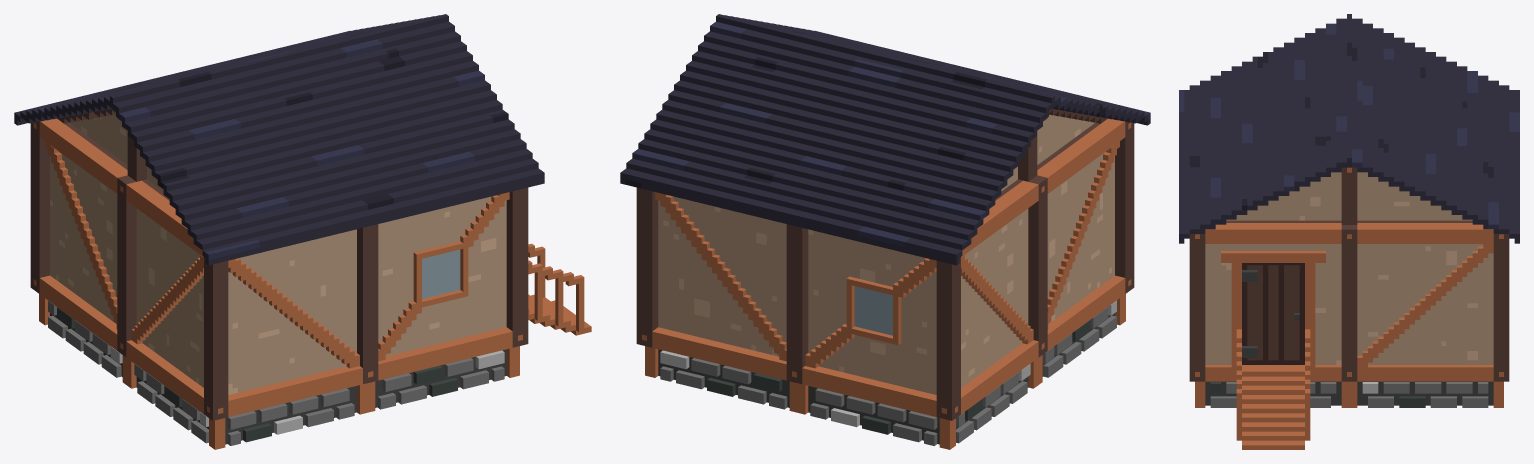
File: Simple-Houses-1-Hous-4.obj
The picture shows the model from 3 angles, left to right: view 1: azimuth 30°, elevation 25°; view 2: azimuth 150°, elevation 25°; view 3: azimuth 270°, elevation 25°; orthographic projection. The views are drawn at different scales.
Parts seen in each view (by area): view 1: Hous-4; view 2: Hous-4; view 3: Hous-4.
Boxes of the visible parts, x1,y1,x2,y2 form: Hous-4: (14, 14, 591, 449); Hous-4: (620, 14, 1150, 449); Hous-4: (1179, 14, 1519, 449).
Size of the model in its own units: 8.1 by 5.4 by 6.5.
1 material, 1 textured.
